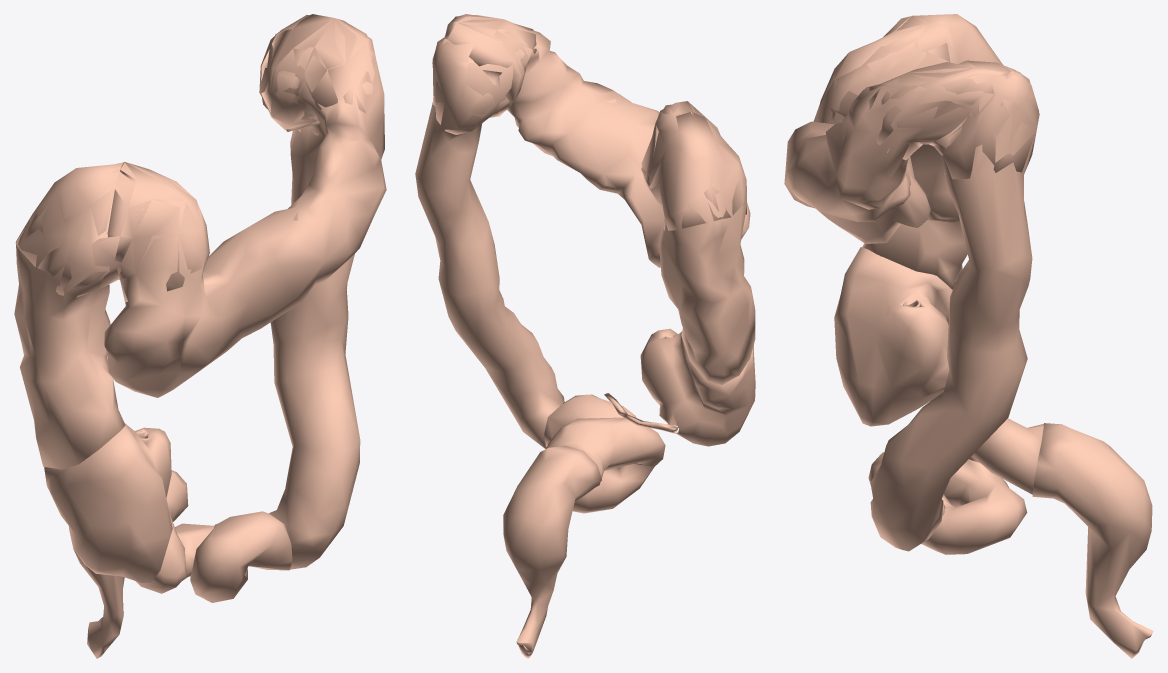
Rendered from sbu_m_intestine_large-20.glb.
The picture shows the model from 3 angles, left to right: view 1: azimuth 30°, elevation 25°; view 2: azimuth 150°, elevation 25°; view 3: azimuth 270°, elevation 25°; orthographic projection. The views are drawn at different scales.
Parts seen in each view (by area): view 1: VH_M_transverse_colon, VH_M_ascending_colon, VH_M_descending_colon, VH_M_caecum, VH_M_sigmoid_colon, VH_M_hepatic_flexure_of_colon, VH_M_splenic_flexure_of_colon, VH_M_rectum; view 2: VH_M_descending_colon, VH_M_transverse_colon, VH_M_ascending_colon, VH_M_rectum, VH_M_caecum, VH_M_sigmoid_colon, VH_M_splenic_flexure_of_colon, VH_M_hepatic_flexure_of_colon, VH_M_vermiform_appendix; view 3: VH_M_descending_colon, VH_M_transverse_colon, VH_M_caecum, VH_M_rectum, VH_M_sigmoid_colon, VH_M_splenic_flexure_of_colon, VH_M_ascending_colon, VH_M_hepatic_flexure_of_colon.
Part boxes in pixels (left/top/right/bottom): VH_M_transverse_colon: left=104, top=14, right=386, bottom=397; VH_M_ascending_colon: left=14, top=163, right=125, bottom=469; VH_M_descending_colon: left=261, top=14, right=360, bottom=569; VH_M_caecum: left=44, top=423, right=172, bottom=582; VH_M_sigmoid_colon: left=135, top=470, right=292, bottom=602; VH_M_hepatic_flexure_of_colon: left=15, top=162, right=209, bottom=302; VH_M_splenic_flexure_of_colon: left=259, top=15, right=384, bottom=135; VH_M_rectum: left=73, top=548, right=124, bottom=658; VH_M_descending_colon: left=415, top=38, right=564, bottom=448; VH_M_transverse_colon: left=445, top=15, right=750, bottom=267; VH_M_ascending_colon: left=649, top=112, right=755, bottom=384; VH_M_rectum: left=503, top=445, right=601, bottom=658; VH_M_caecum: left=640, top=328, right=755, bottom=446; VH_M_sigmoid_colon: left=544, top=394, right=665, bottom=513; VH_M_splenic_flexure_of_colon: left=432, top=14, right=536, bottom=134; VH_M_hepatic_flexure_of_colon: left=641, top=101, right=746, bottom=230; VH_M_vermiform_appendix: left=604, top=393, right=678, bottom=433; VH_M_descending_colon: left=870, top=73, right=1039, bottom=551; VH_M_transverse_colon: left=784, top=16, right=1015, bottom=243; VH_M_caecum: left=834, top=247, right=952, bottom=426; VH_M_rectum: left=1032, top=423, right=1153, bottom=658; VH_M_sigmoid_colon: left=868, top=418, right=1043, bottom=554; VH_M_splenic_flexure_of_colon: left=869, top=60, right=1038, bottom=179; VH_M_ascending_colon: left=862, top=14, right=1002, bottom=289; VH_M_hepatic_flexure_of_colon: left=818, top=14, right=982, bottom=122.
Size of the model in its own units: 0.2598 by 0.451 by 0.225.
